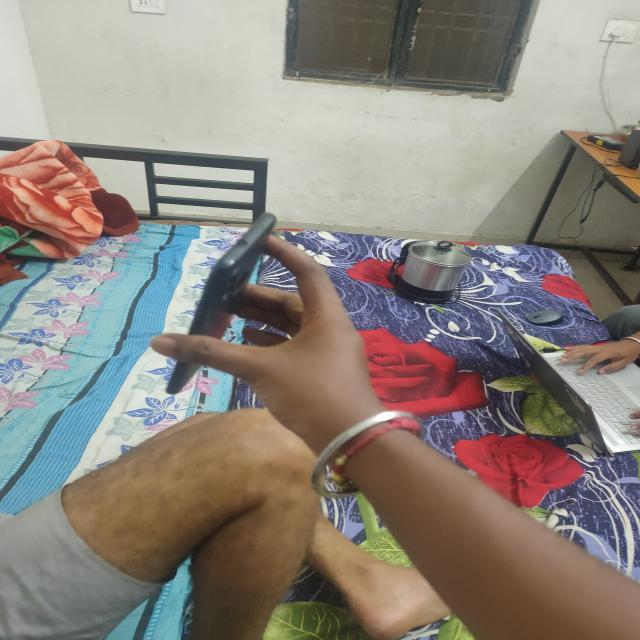Phone: (161, 212, 281, 399)
